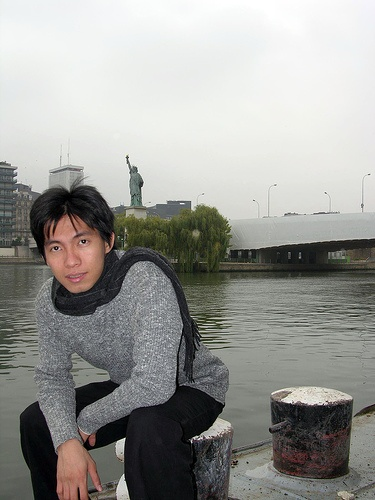head: (29, 186, 117, 296)
person: (12, 183, 234, 500)
